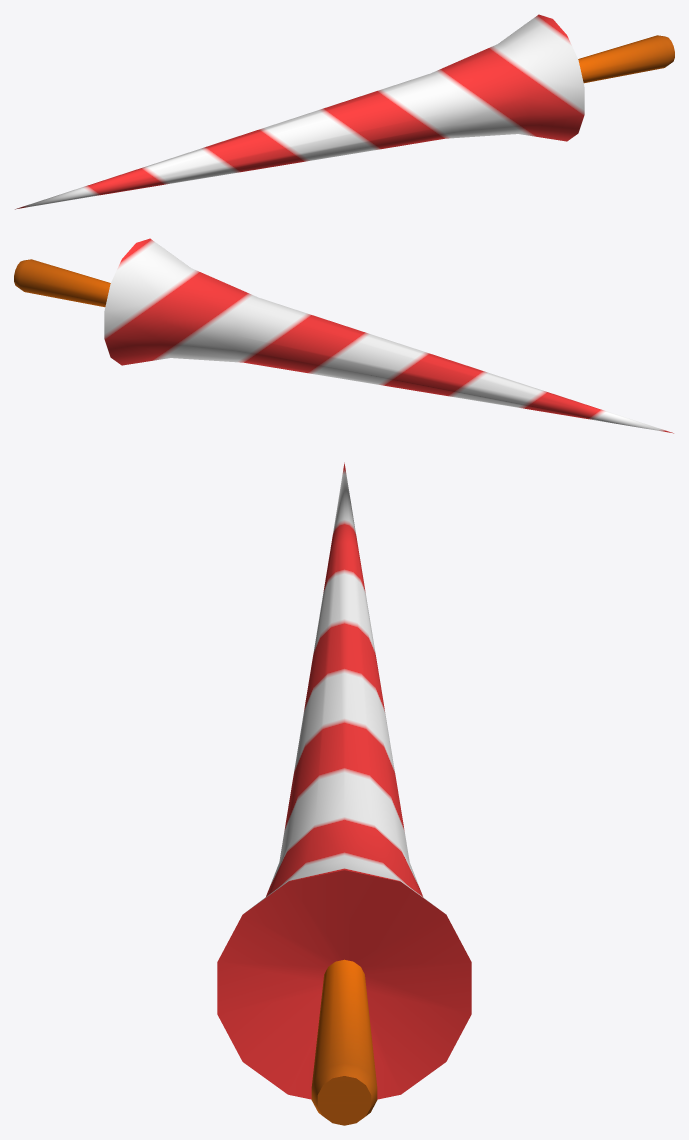
File: Joust.obj
3 renders of one model, top to bottom at view 1: azimuth 30°, elevation 25°; view 2: azimuth 150°, elevation 25°; view 3: azimuth 270°, elevation 25°, orthographic. The views are drawn at different scales.
Parts seen in each view (by area): view 1: Visual1; view 2: Visual1; view 3: Visual1.
Part boxes in pixels (bbox=[...]): Visual1: bbox=[15, 14, 674, 209]; Visual1: bbox=[14, 238, 673, 433]; Visual1: bbox=[217, 462, 471, 1125].
Bounding box in the file's own units: 2.32 × 0.4 × 0.39.
Materials: 1 (1 with a texture image).
